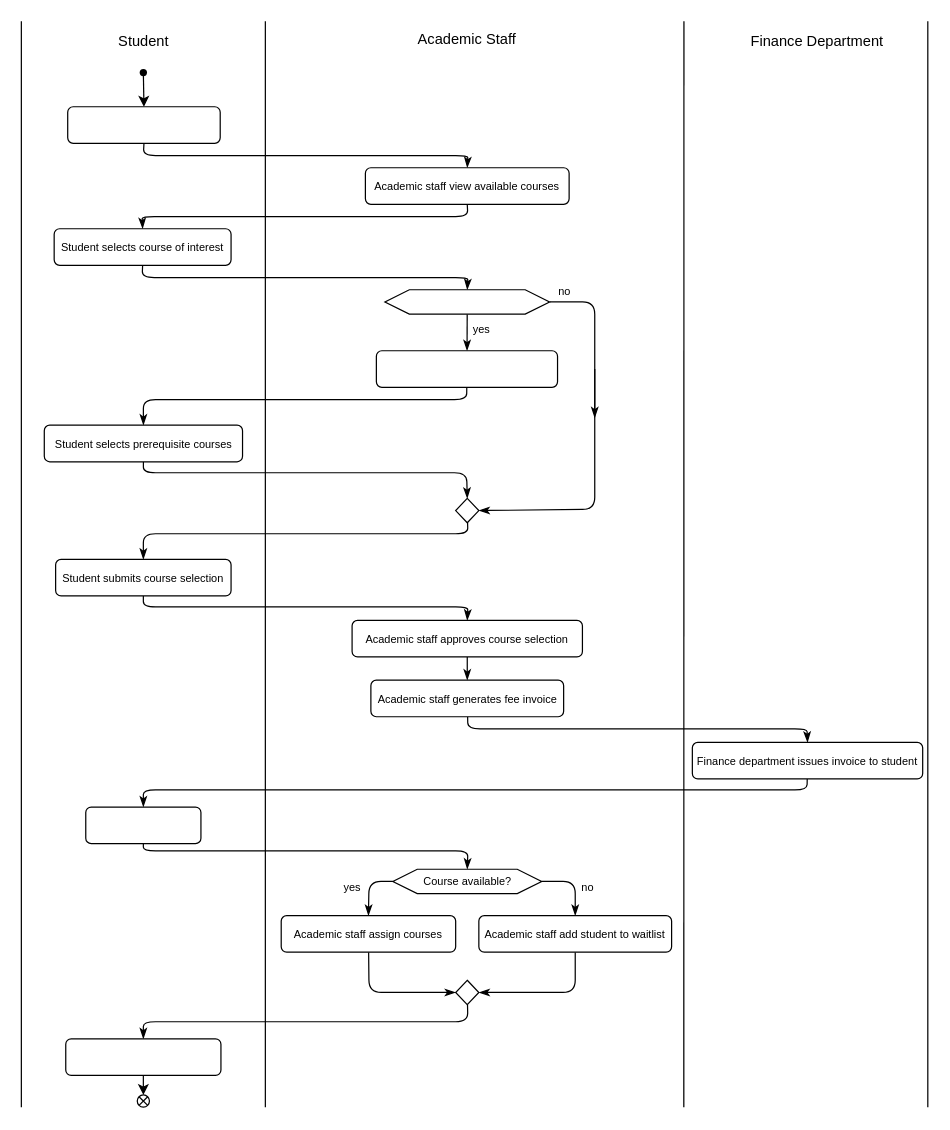
The diagram is 950 pixels wide and 1130 high, and some of its shapes have lost their labels. Here are the shapes that lost their labels. From the top down, the centre of each, then its label:
At point (143, 124): "Students log in to the system".
At point (467, 301): "Course has prerequisites?".
At point (466, 368): "Academic staff view prerequisites".
At point (143, 825): "Student pays fee".
At point (143, 1056): "Student views class schedule".
